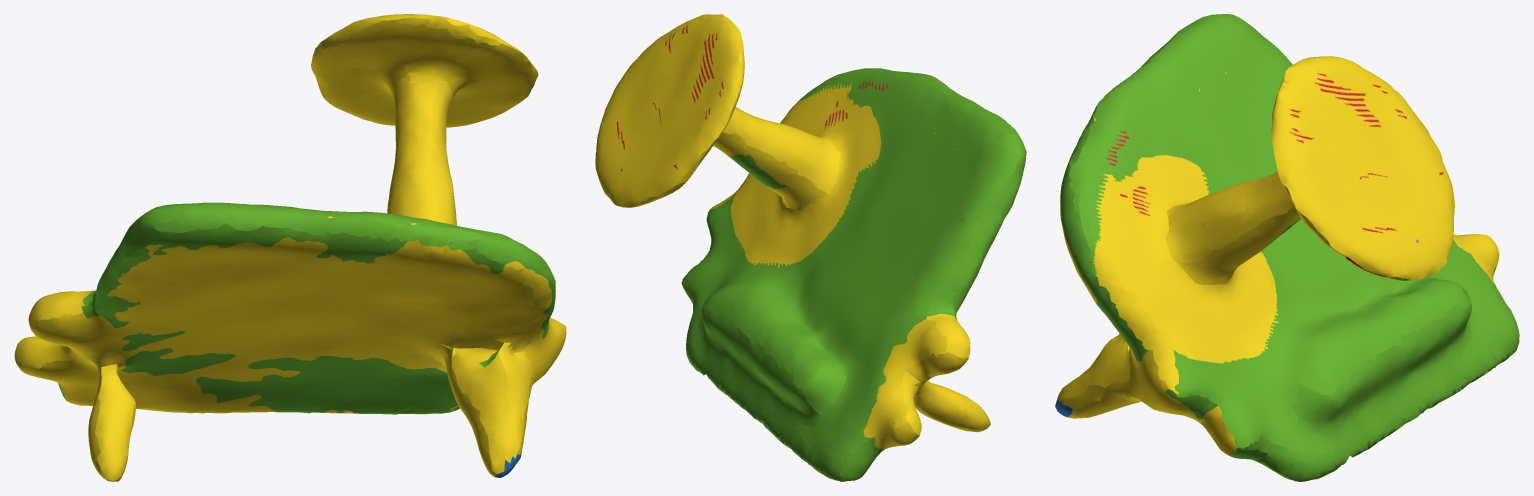
Rendered from watchraft.glb.
The picture shows the model from 3 angles, left to right: view 1: azimuth 30°, elevation 25°; view 2: azimuth 150°, elevation 25°; view 3: azimuth 270°, elevation 25°; orthographic projection. The views are drawn at different scales.
Parts seen in each view (by area): view 1: geometry_0; view 2: geometry_0; view 3: geometry_0.
Part boxes in pixels (x1,y1,x2,y2): geometry_0: (14,14,566,481); geometry_0: (595,14,1026,481); geometry_0: (1055,14,1519,481).
Size of the model in its own units: 0.8623 by 0.7141 by 0.7536.
1 material, 1 textured.
